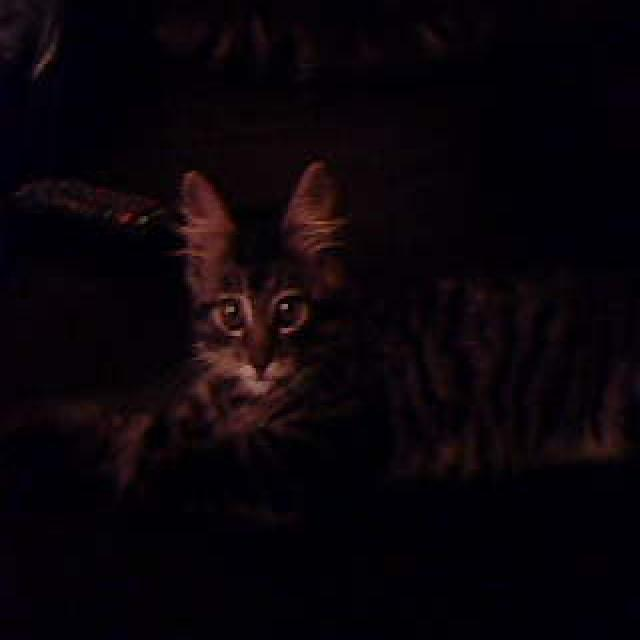Cat: (103, 138, 640, 518)
